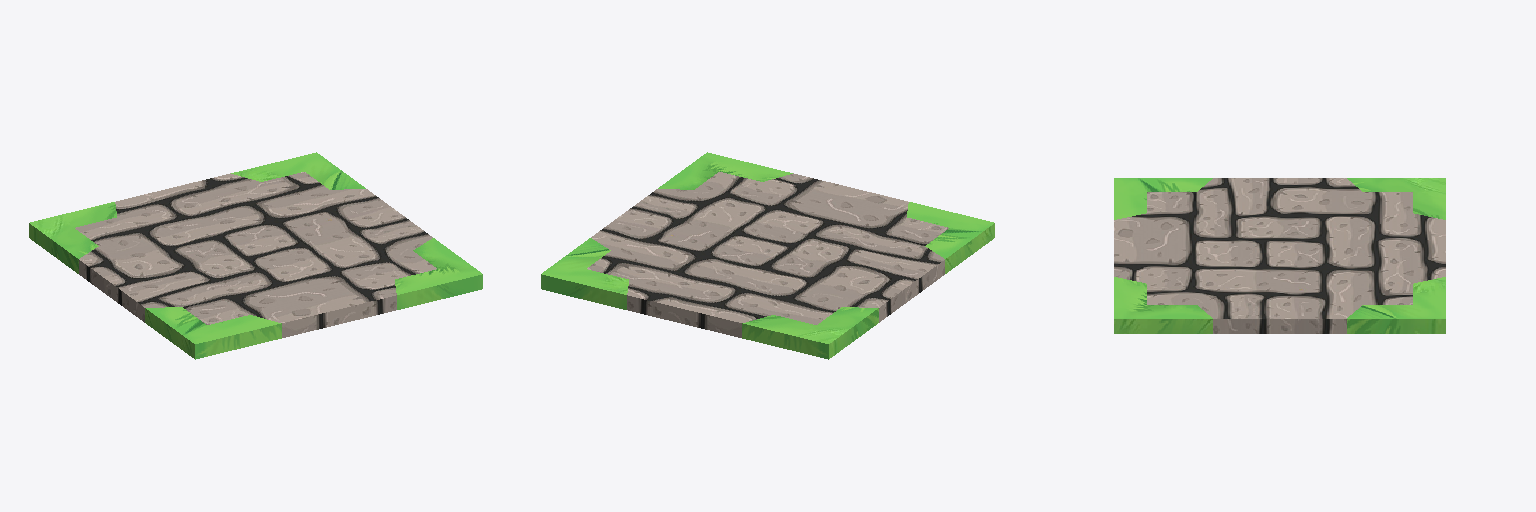
3 views of the same model, side by side, from view 1: azimuth 30°, elevation 25°; view 2: azimuth 150°, elevation 25°; view 3: azimuth 270°, elevation 25° (orthographic).
Parts seen in each view (by area): view 1: Box001; view 2: Box001; view 3: Box001.
Part boxes in pixels (x1,y1,x2,y2): Box001: (29, 152, 482, 359); Box001: (541, 152, 994, 359); Box001: (1114, 178, 1445, 333).
Bounding box in the file's own units: 3.94 × 0.1969 × 3.94.
1 materials, 1 textured.